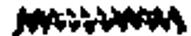Water: (11, 2, 191, 36)
